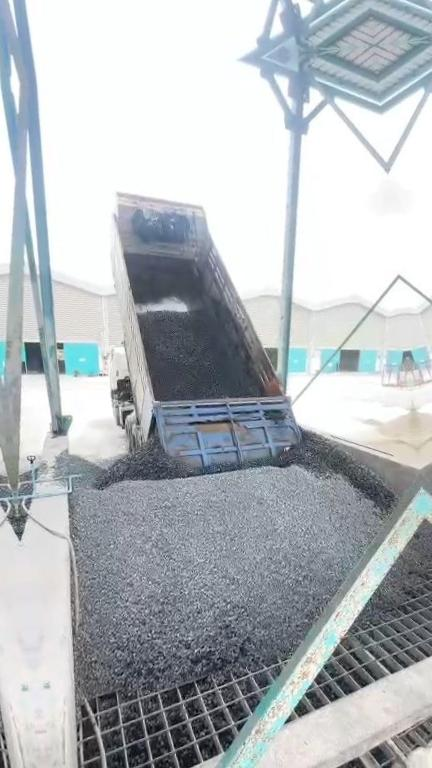gravel: (52, 428, 396, 695), (139, 310, 261, 400), (363, 523, 430, 622)
sand: (340, 411, 419, 463)
